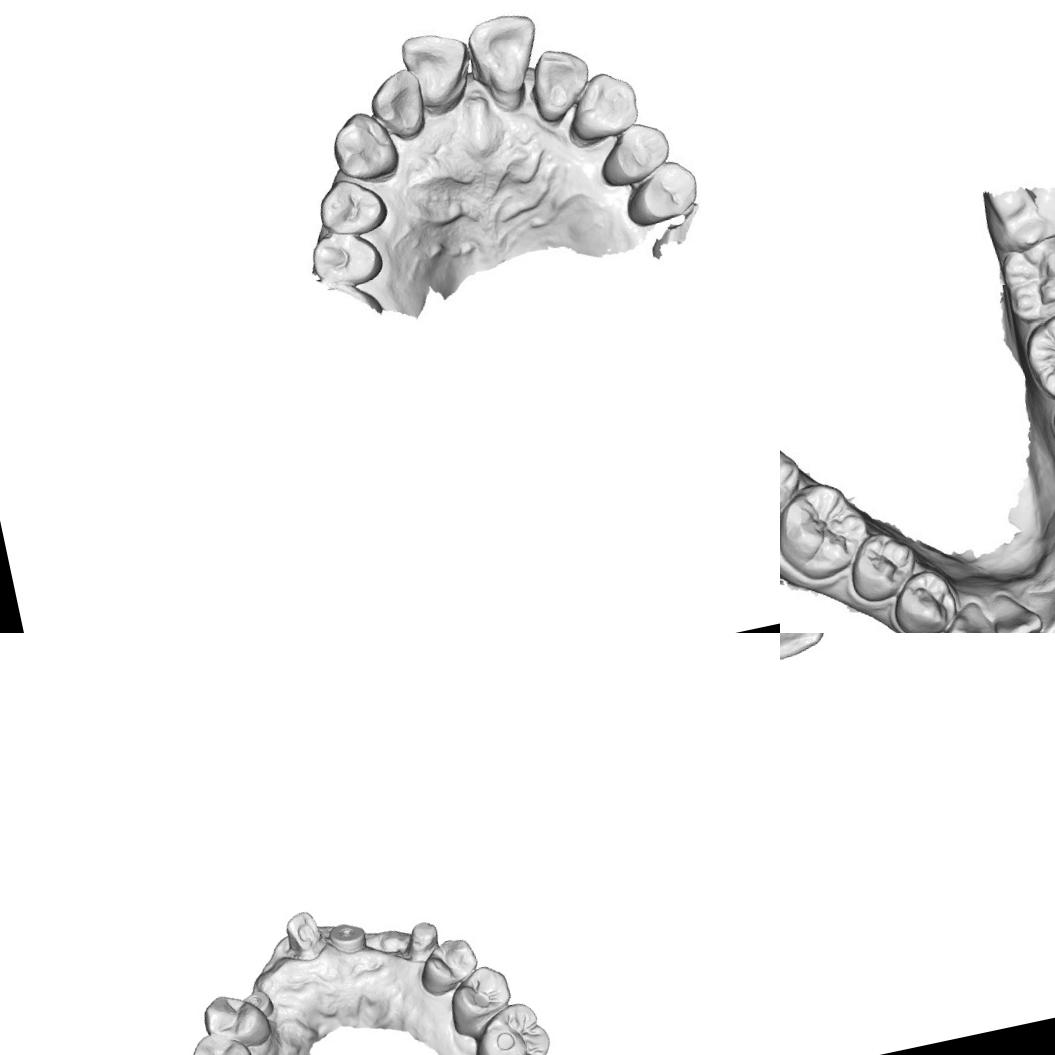canine: (562, 66, 647, 148), (327, 105, 404, 188), (943, 598, 999, 633)
crown: (280, 904, 332, 965), (398, 909, 448, 962)
implant: (323, 914, 374, 960), (236, 984, 280, 1025)
incisor: (462, 7, 550, 102), (395, 25, 479, 119), (362, 63, 434, 148), (522, 42, 596, 122), (985, 581, 1042, 633), (1028, 583, 1055, 633)
molar: (780, 472, 868, 583), (463, 996, 558, 1055), (995, 236, 1055, 320), (1023, 310, 1055, 404), (780, 428, 803, 526)
premolar: (617, 153, 706, 236), (440, 960, 518, 1036), (310, 170, 390, 243), (307, 222, 388, 294), (598, 115, 676, 188), (845, 530, 918, 604), (198, 986, 275, 1055), (412, 932, 484, 997), (891, 568, 956, 633), (184, 1025, 259, 1055)
